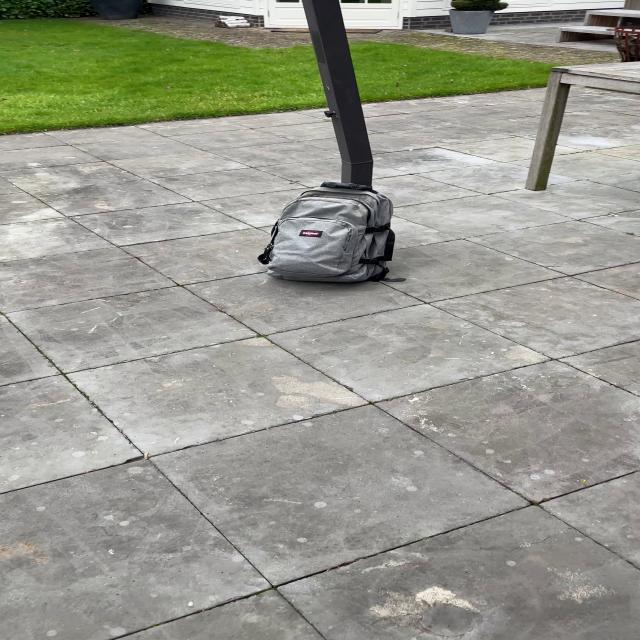backpack: (256, 178, 402, 288)
